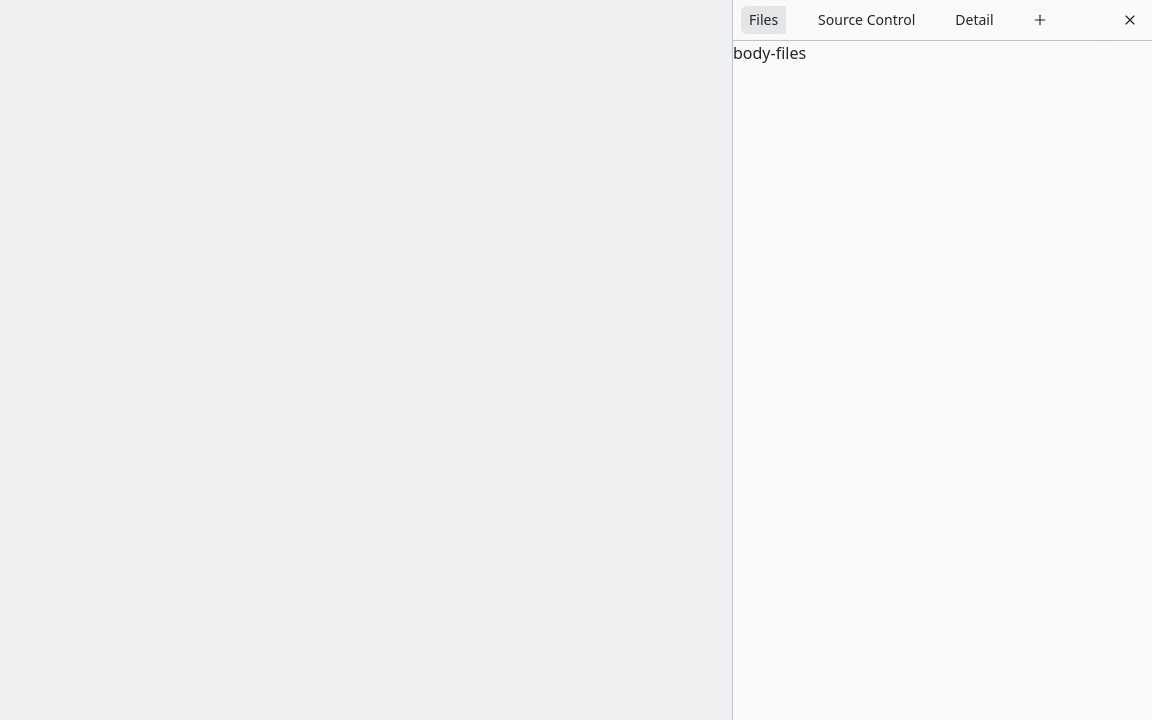
it: SessionPanel › only offers tabs that are not already open
This screenshot has width=1152, height=720.
Click the button named "Add panel".
click(1040, 20)  # box [1026,6,1054,34]
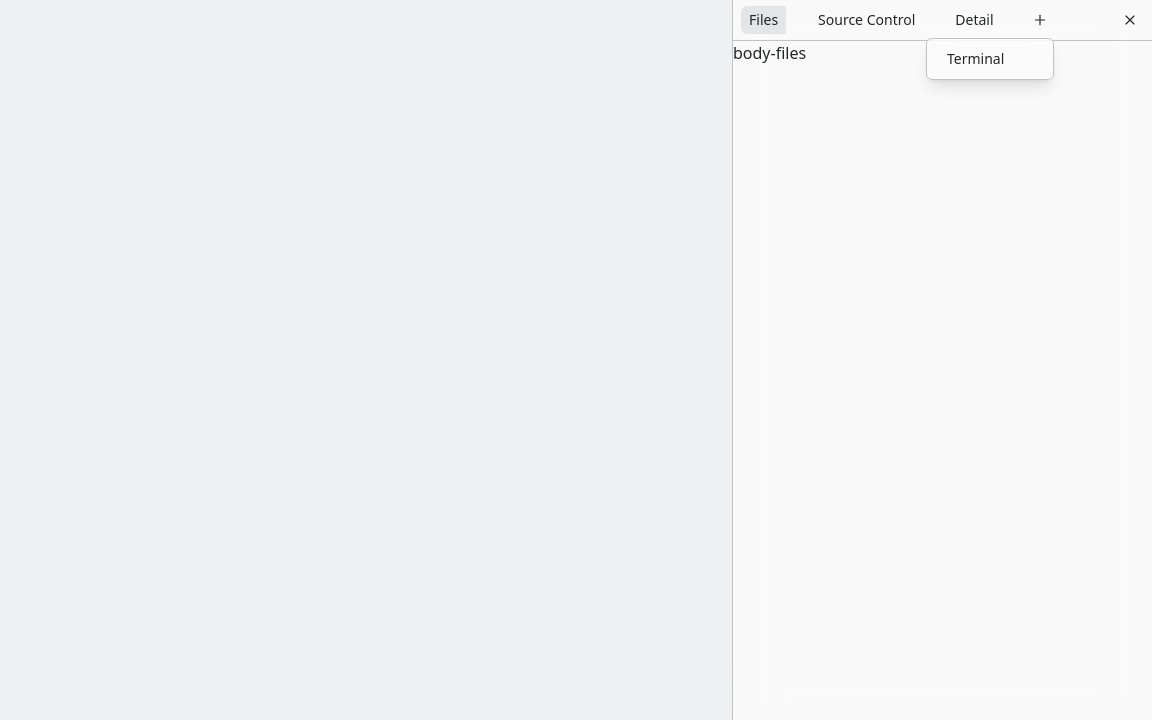
Check: the menu item "Terminal" is shown, box [947,49,1004,68]
